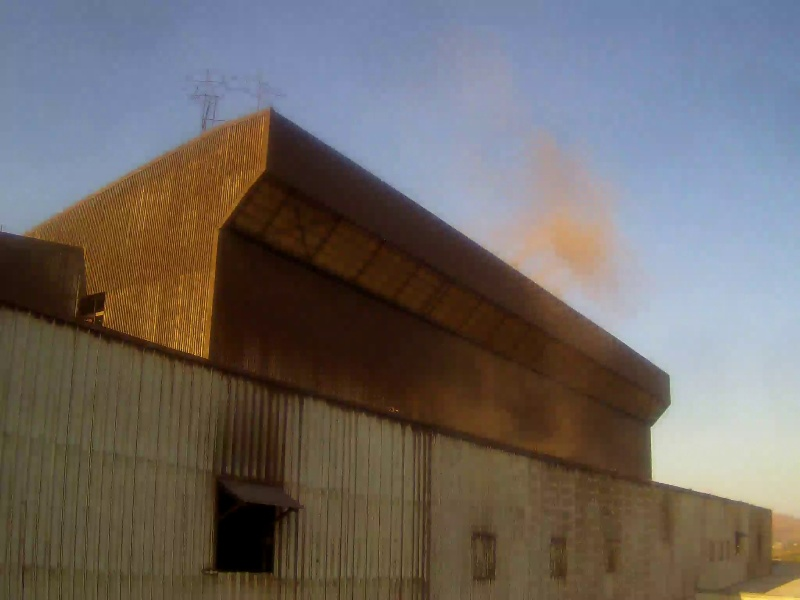bom: (2, 6, 273, 181), (250, 35, 368, 191), (639, 281, 757, 437)
ruim: (428, 72, 613, 455)
